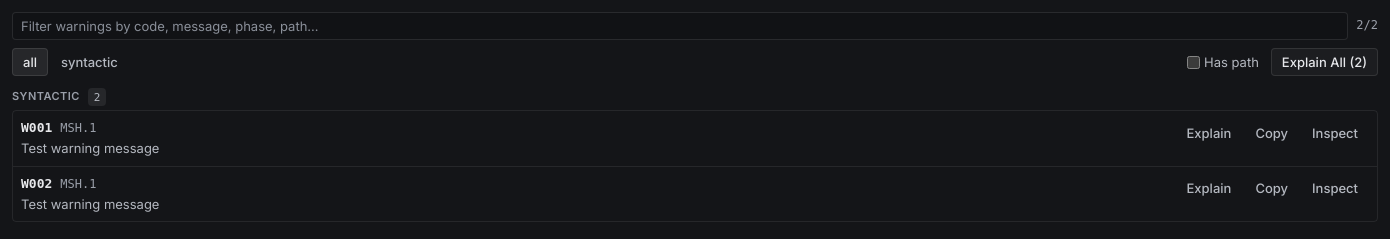
Test: WarningList › filtering › should show Clear button when input has value
The width and height of the screenshot is (1390, 239).
Check: the button "Clear" is not shown
Note: Type something
Type "test" into the field with placeholder "Filter warnings by code, message, phase, path…" at (680, 26), box [12,12,1348,40]
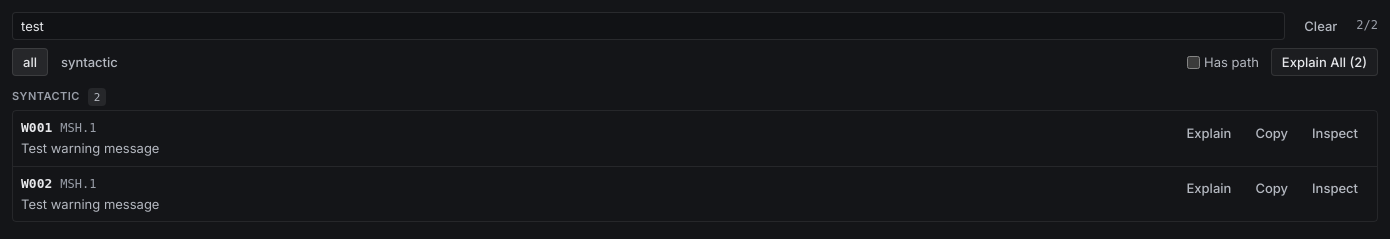
Check: the button "Clear" is shown, box [1293,12,1348,40]
